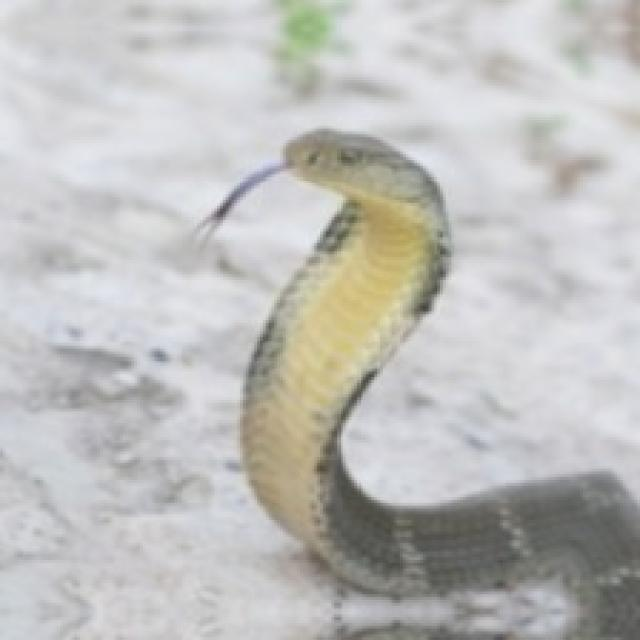king cobra: (203, 129, 637, 637)
